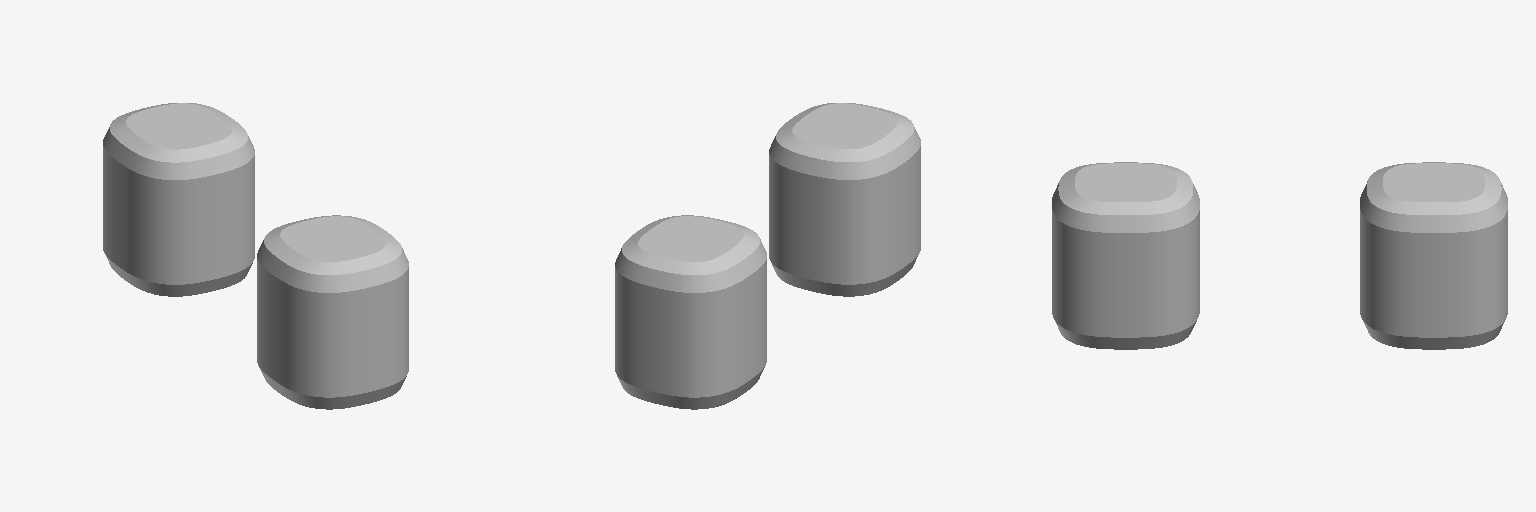
Rendered from collon.obj.
3 views of the same model, side by side, from view 1: azimuth 30°, elevation 25°; view 2: azimuth 150°, elevation 25°; view 3: azimuth 270°, elevation 25° (orthographic).
Parts seen in each view (by area): view 1: A_Text; view 2: A_Text; view 3: A_Text.
Boxes of the visible parts, box(x1,y1,x2,y2) form: A_Text: box(103, 103, 408, 409); A_Text: box(615, 103, 920, 409); A_Text: box(1052, 162, 1507, 349).
Bounding box in the file's own units: 0.1207 × 0.14 × 0.3957.